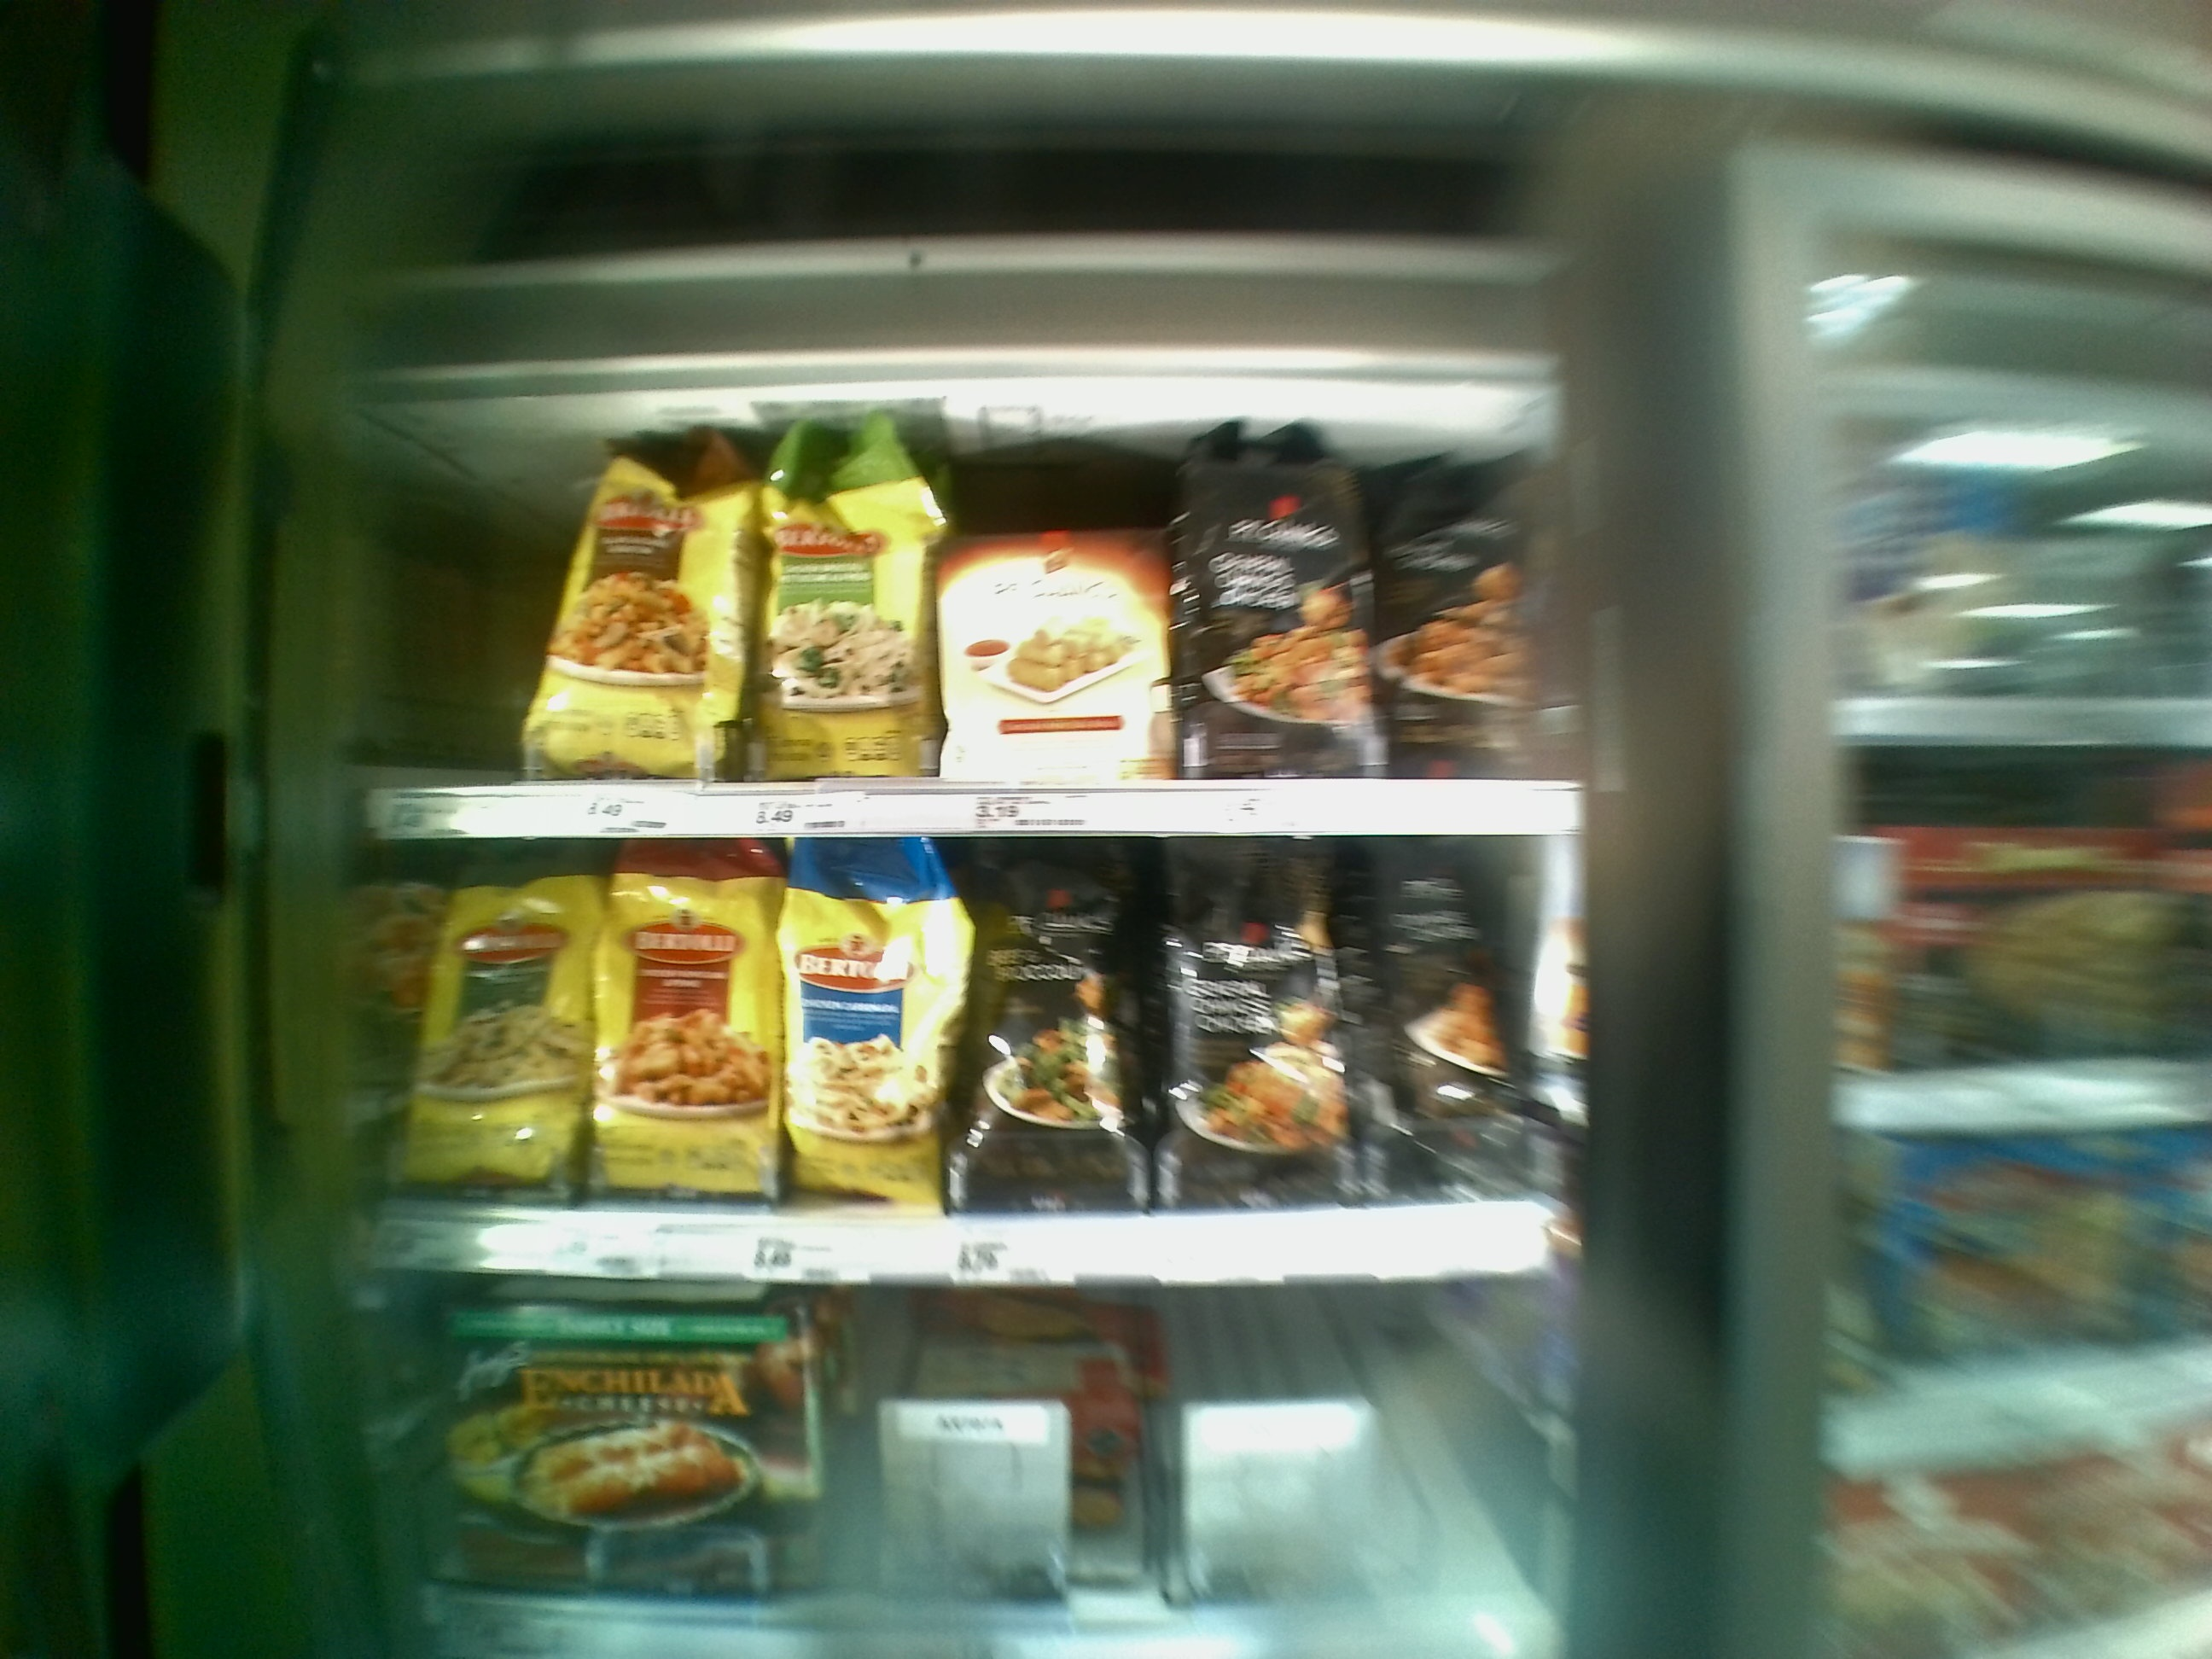shelf: (350, 397, 1583, 842), (373, 838, 1552, 1279), (387, 1277, 1548, 1659)
